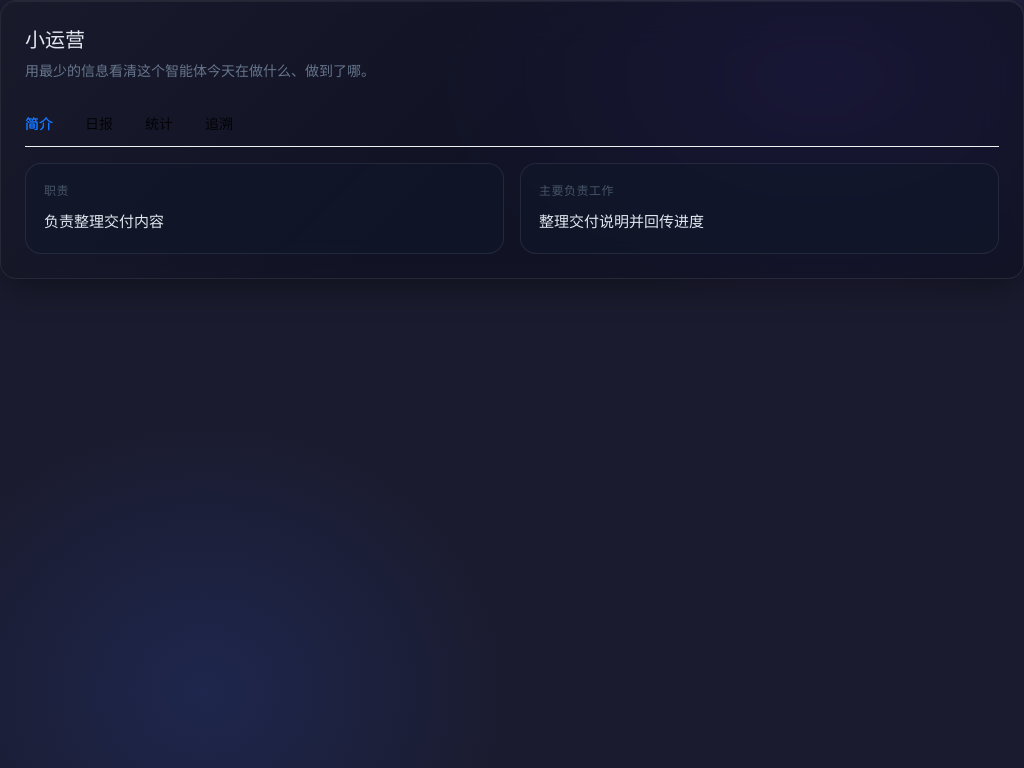
it: AgentWorkPanel › shows only the morning report by default during the day
Click the tab "日报" at (99,124), box [85,113,113,135]
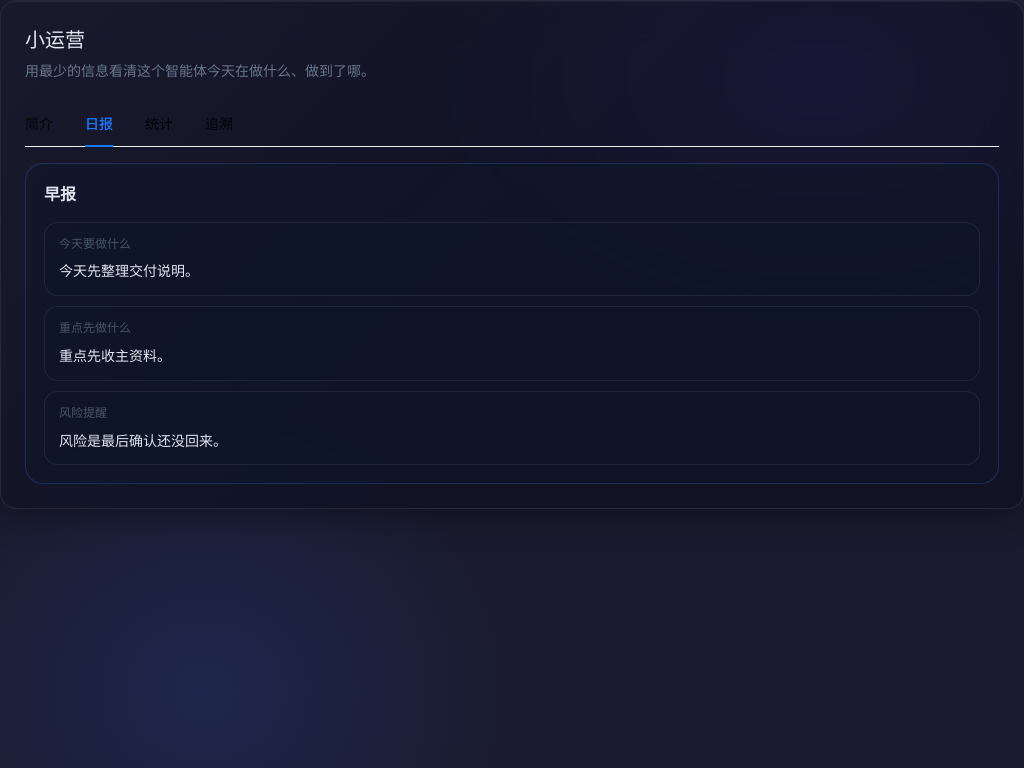
expect the text "今天先整理交付说明。" is shown: met, box [59,262,199,279]
